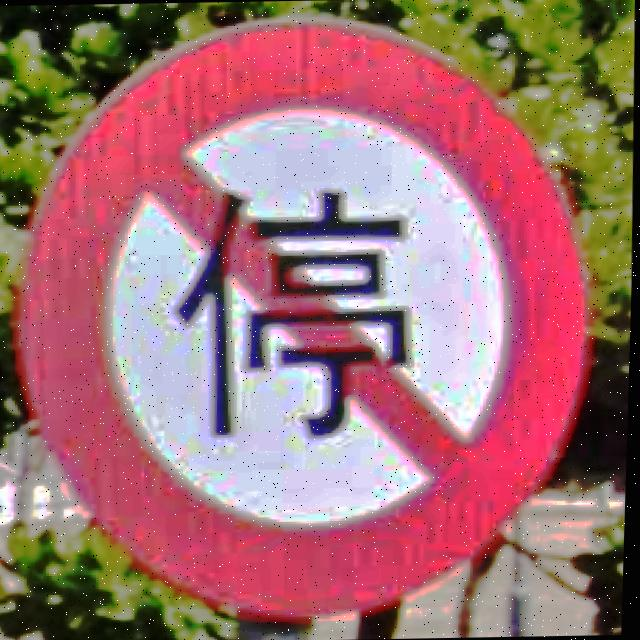nopark: (0, 6, 609, 624)
